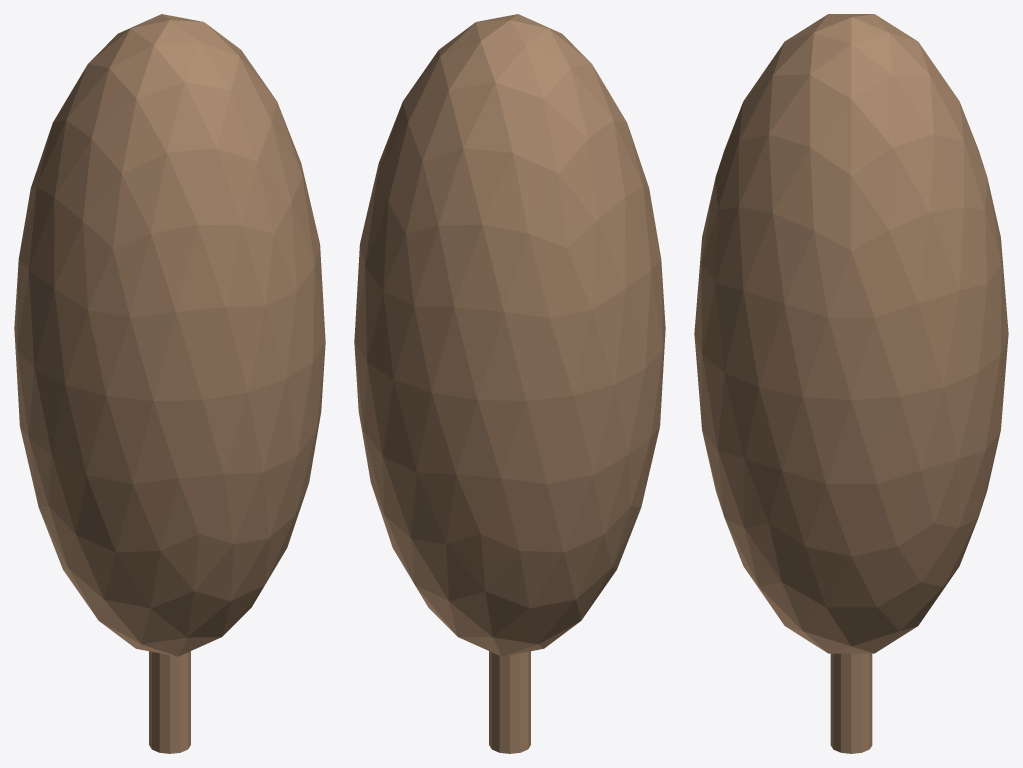
The model's file is Tree_3.glb.
3 renders of one model, left to right at view 1: azimuth 30°, elevation 25°; view 2: azimuth 150°, elevation 25°; view 3: azimuth 270°, elevation 25°, orthographic.
Parts seen in each view (by area): view 1: Tree_3; view 2: Tree_3; view 3: Tree_3.
Boxes of the visible parts, left/top/right/bottom form: Tree_3: left=14, top=14, right=325, bottom=753; Tree_3: left=354, top=14, right=665, bottom=753; Tree_3: left=694, top=14, right=1008, bottom=753.
Size of the model in its own units: 1.8 by 4.6 by 1.8.
